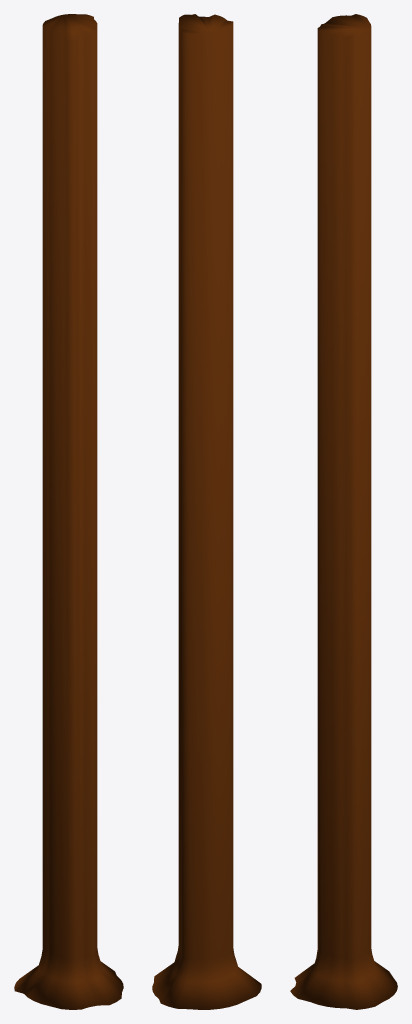
File: TreeBig.fbx
The picture shows the model from 3 angles, left to right: view 1: azimuth 30°, elevation 25°; view 2: azimuth 210°, elevation 25°; view 3: azimuth 270°, elevation 25°; orthographic projection.
Parts seen in each view (by area): view 1: Cylinder; view 2: Cylinder; view 3: Cylinder.
Boxes of the visible parts, x1,y1,x2,y2 form: Cylinder: [14, 14, 123, 1009]; Cylinder: [152, 14, 261, 1009]; Cylinder: [290, 14, 397, 1009].
Size of the model in its own units: 441 by 4242 by 432.
